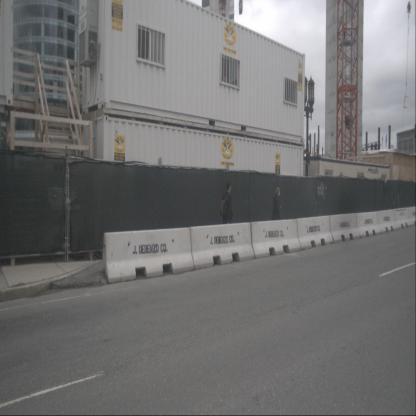barrier: (102, 227, 194, 283), (185, 222, 255, 270), (250, 218, 301, 258), (296, 215, 334, 250), (329, 212, 360, 243), (355, 210, 380, 236), (376, 209, 396, 235), (393, 207, 410, 229), (407, 207, 416, 226)
